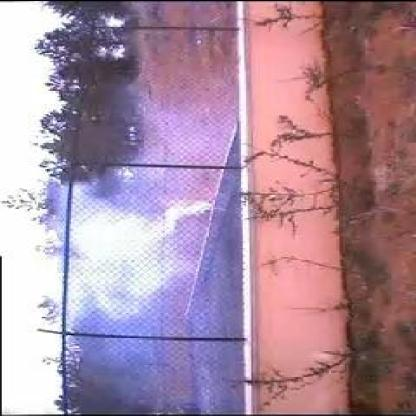-: (50, 155, 236, 340)
